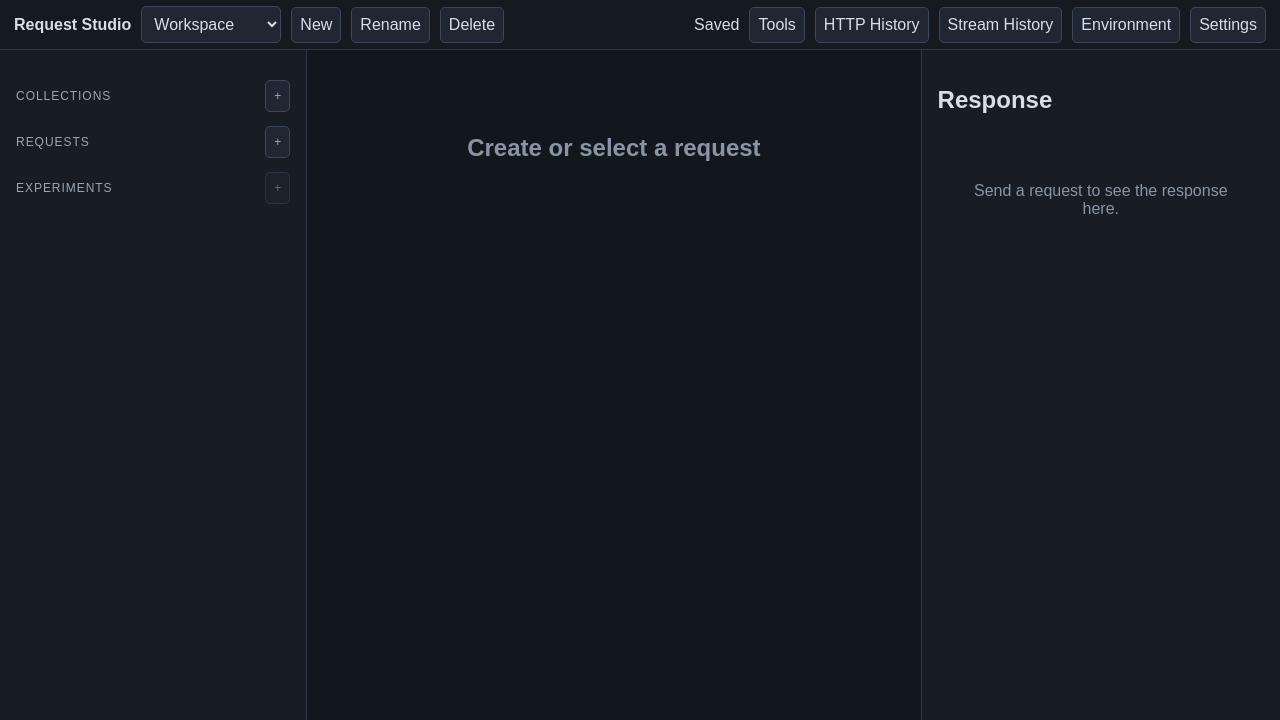
it: refreshes the Workspace list after a confirmed Workspace import
Click the button "Tools".
click(777, 24)  # box left=750, top=6, right=805, bottom=42
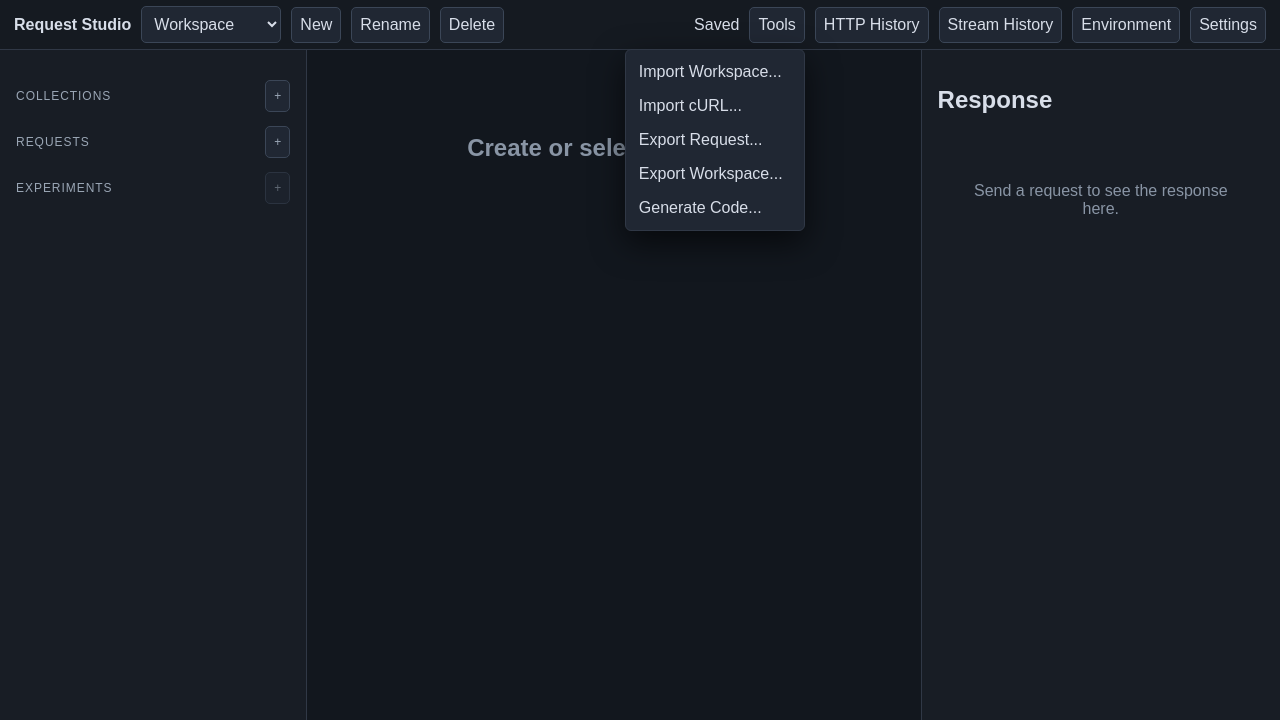
Click the menu item "Import Workspace...".
click(715, 72)  # box left=631, top=54, right=799, bottom=88
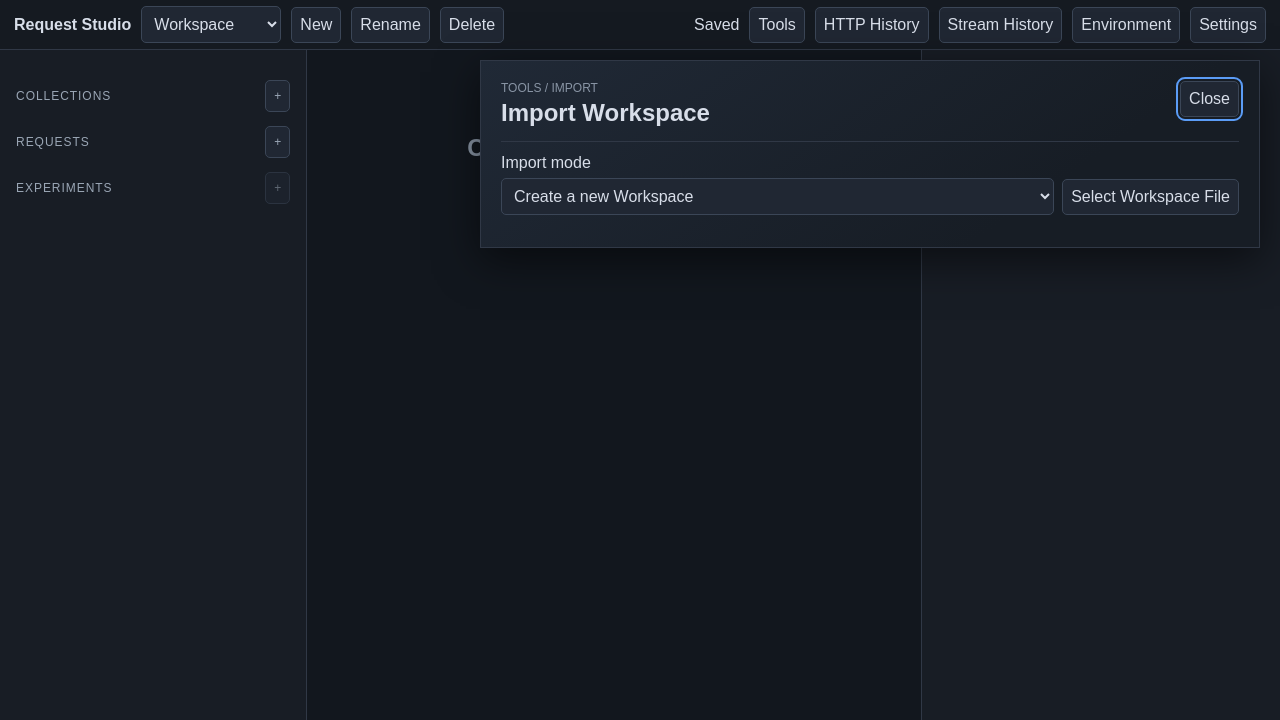
Click the button "Select Workspace File".
click(1151, 197)  # box left=1062, top=179, right=1239, bottom=215
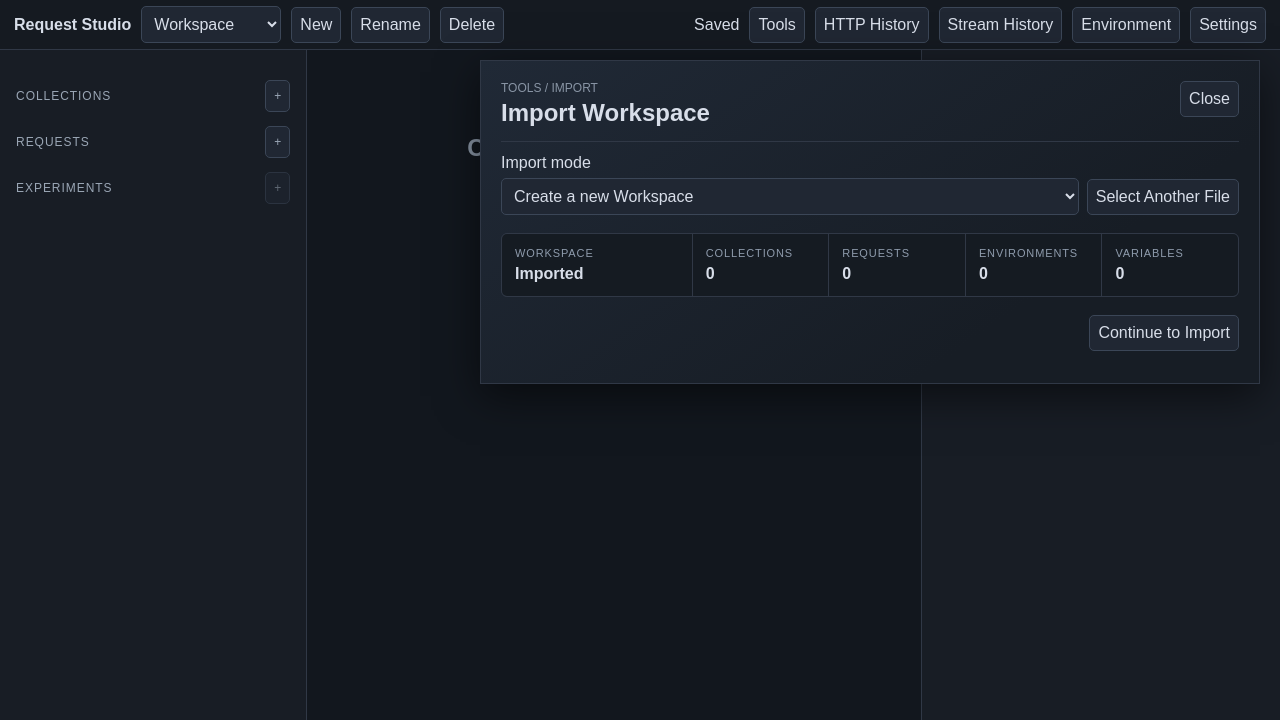
Check: the text "Imported" is shown, box left=515, top=265, right=584, bottom=282
Click the button "Continue to Import".
click(1164, 333)  # box left=1089, top=315, right=1239, bottom=351
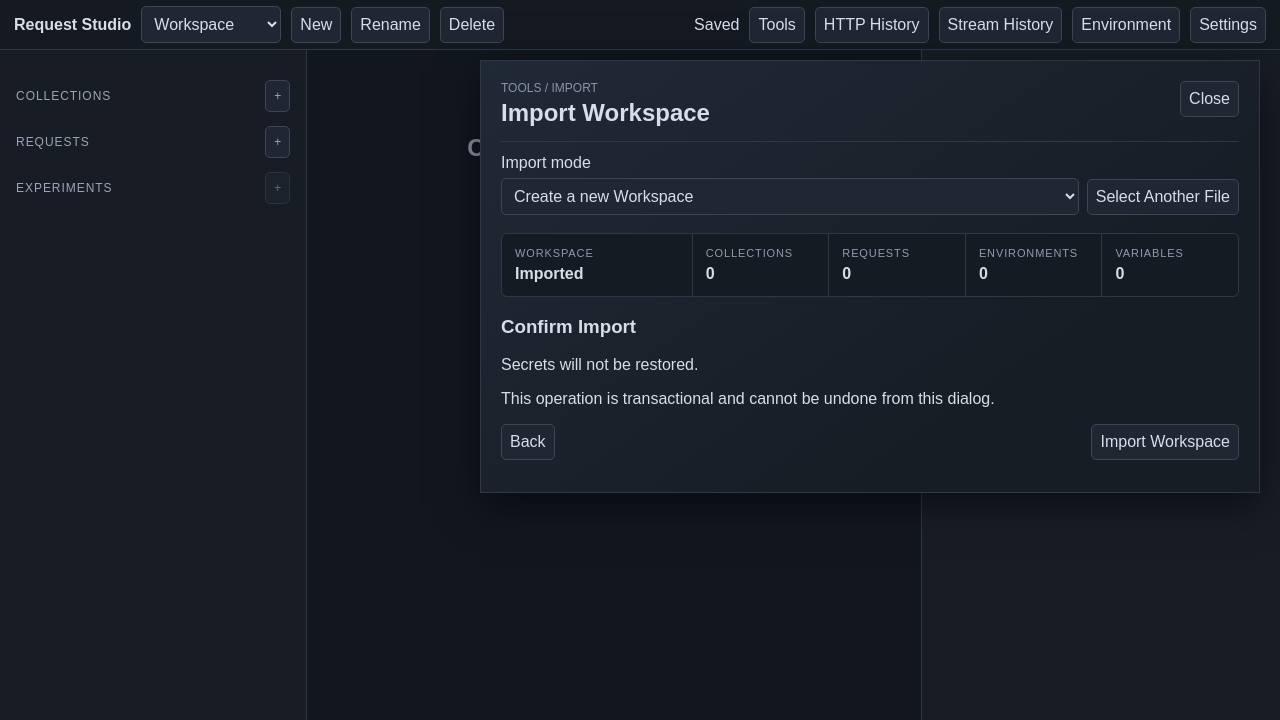
Click the button "Import Workspace".
click(1165, 442)  # box left=1092, top=424, right=1239, bottom=460
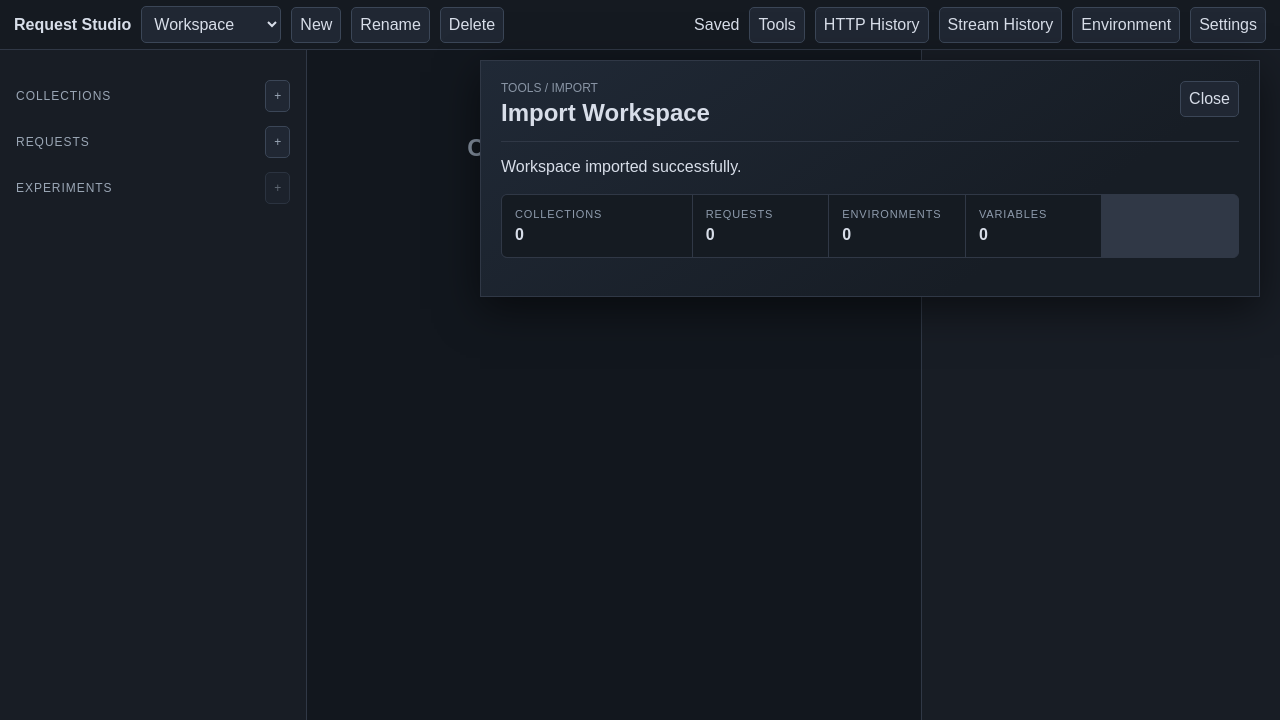
Check: the message reads "Workspace imported successfully.", box left=501, top=158, right=741, bottom=175
